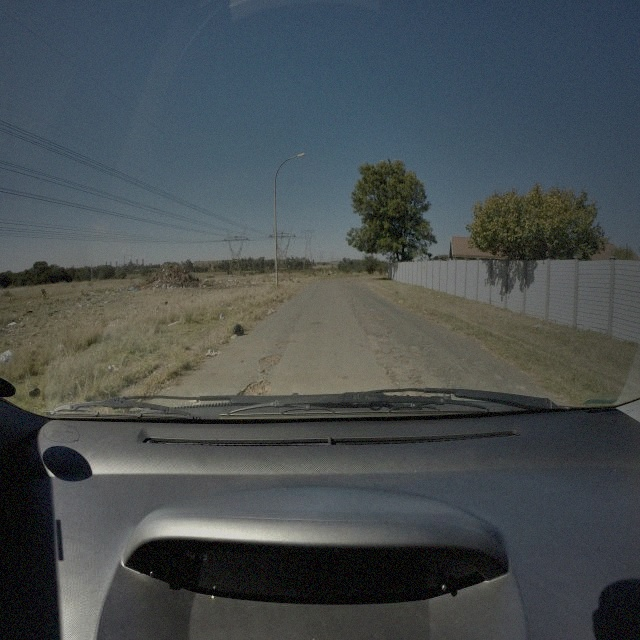pothole: (239, 378, 272, 397), (258, 352, 284, 368), (395, 352, 407, 364), (409, 342, 420, 352), (385, 369, 394, 379), (375, 314, 384, 322), (388, 329, 395, 336), (377, 333, 386, 338)
